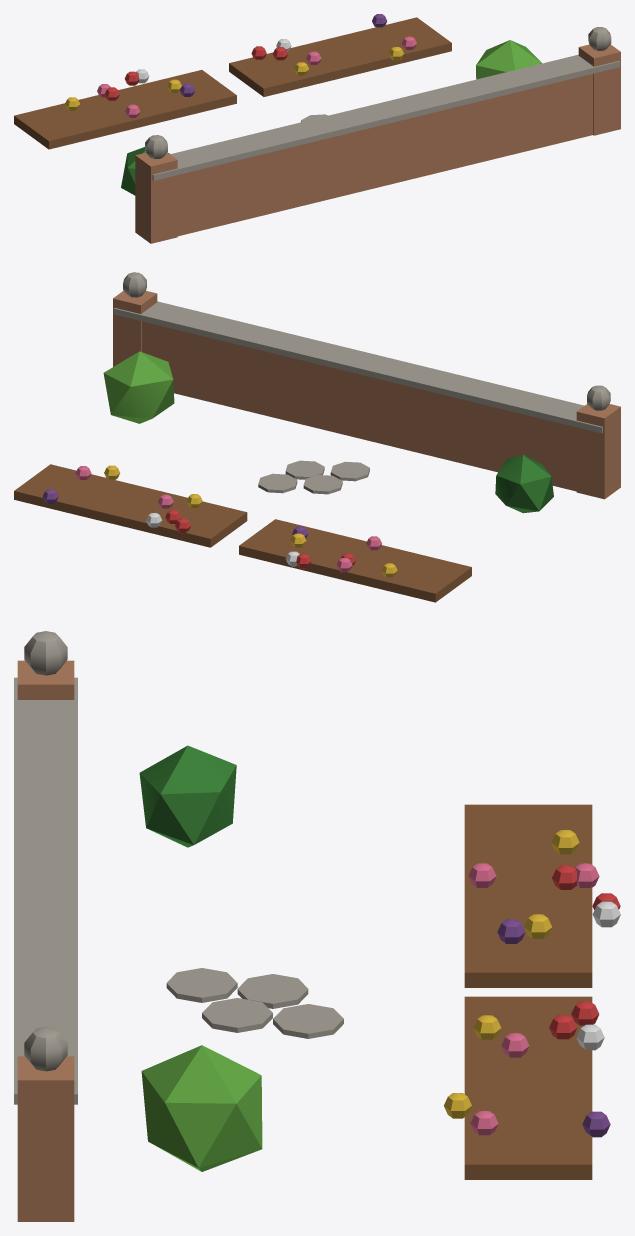
The model's file is garden.gltf.
3 views of the same model, one above another, from view 1: azimuth 30°, elevation 25°; view 2: azimuth 150°, elevation 25°; view 3: azimuth 270°, elevation 25° (orthographic). The views are drawn at different scales.
Parts seen in each view (by area): view 1: garden; view 2: garden; view 3: garden.
Boxes of the visible parts, x1,y1,x2,y2 form: garden: (14,14,620,243); garden: (14,272,620,602); garden: (14,631,620,1221).
Bounding box in the file's own units: 7 × 1.44 × 4.28.
